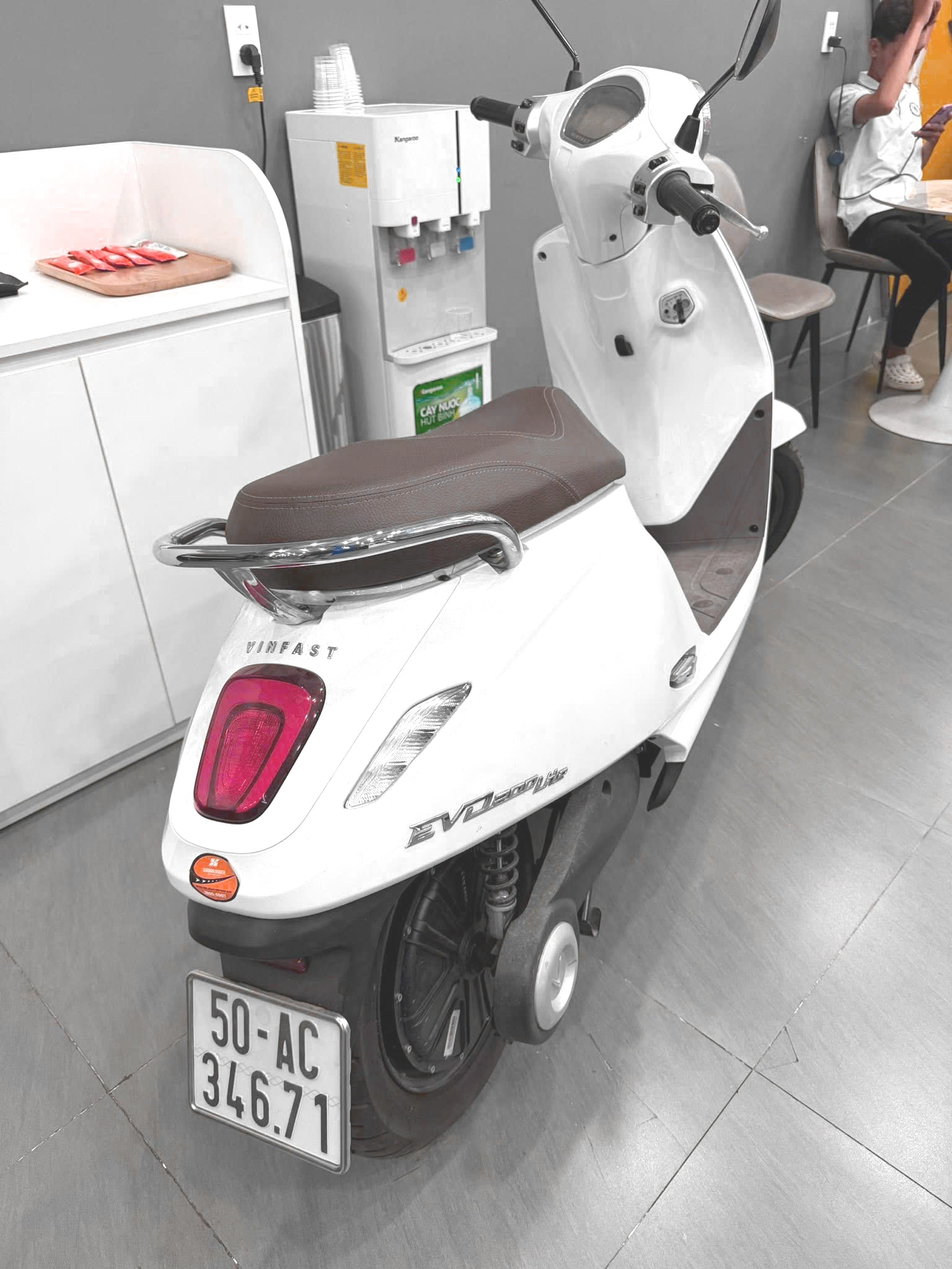Bien-so: (147, 998, 312, 1210)
